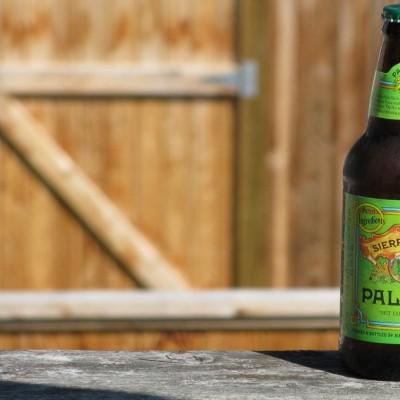beer: (340, 2, 400, 374)
